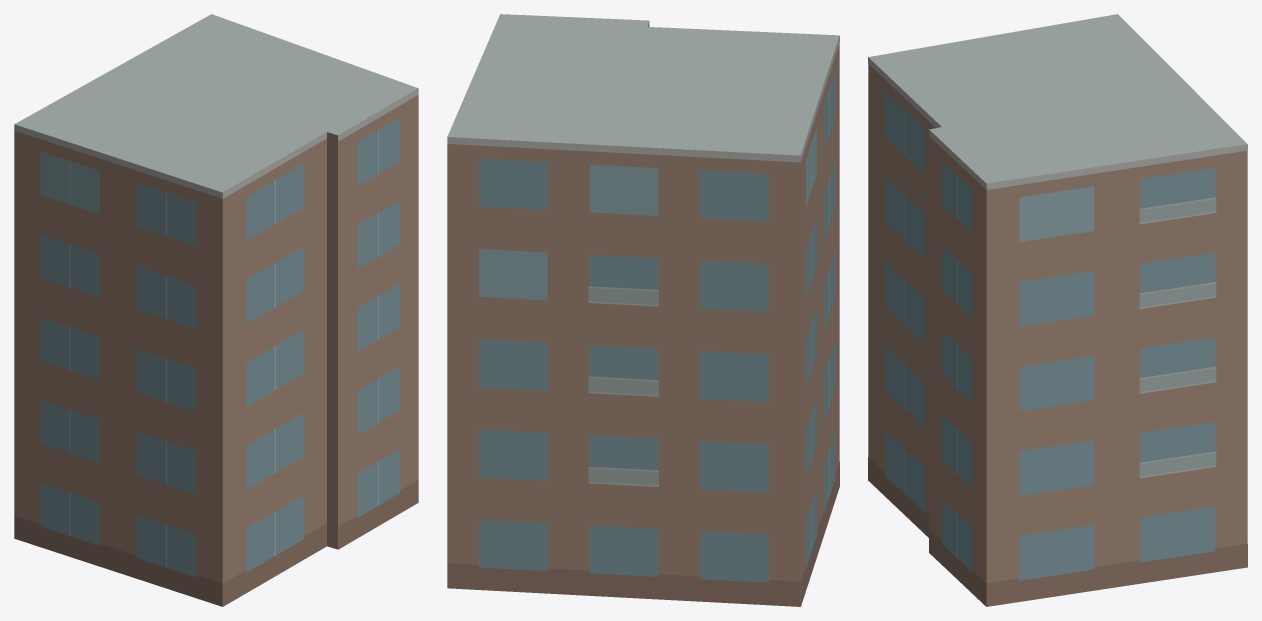
Rendered from survey-upis-32857949.glb.
3 views of the same model, side by side, from view 1: azimuth 30°, elevation 25°; view 2: azimuth 150°, elevation 25°; view 3: azimuth 270°, elevation 25° (orthographic). The views are drawn at different scales.
Parts seen in each view (by area): view 1: survey-upis-32857949.tmp; view 2: survey-upis-32857949.tmp; view 3: survey-upis-32857949.tmp.
Boxes of the visible parts, box(x1,y1,x2,y2) form: survey-upis-32857949.tmp: box(14, 14, 418, 606); survey-upis-32857949.tmp: box(447, 14, 839, 606); survey-upis-32857949.tmp: box(868, 14, 1247, 606).
Size of the model in its own units: 13.8 by 16.05 by 13.06.
